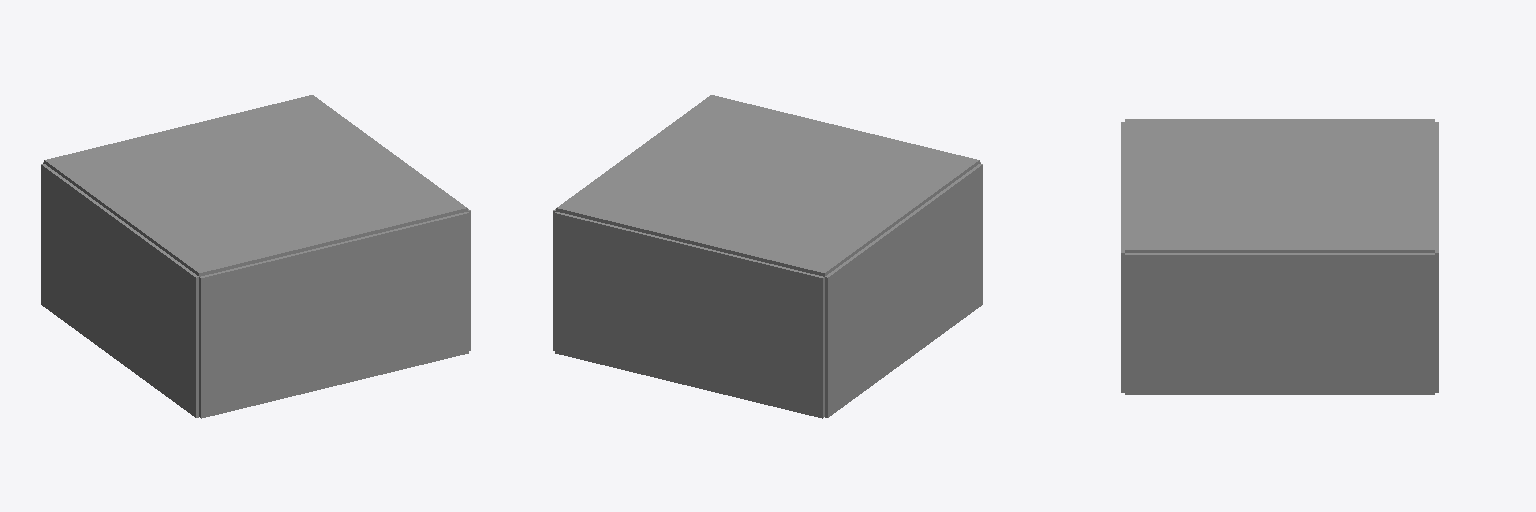
The model's file is Room.obj.
The picture shows the model from 3 angles: view 1: azimuth 30°, elevation 25°; view 2: azimuth 150°, elevation 25°; view 3: azimuth 270°, elevation 25°; orthographic projection.
Parts seen in each view (by area): view 1: Room; view 2: Room; view 3: Room.
Part boxes in pixels (bbox=[...]): Room: bbox=[41, 95, 470, 418]; Room: bbox=[553, 95, 982, 418]; Room: bbox=[1121, 119, 1438, 394].
Bounding box in the file's own units: 41 × 20.5 × 41.